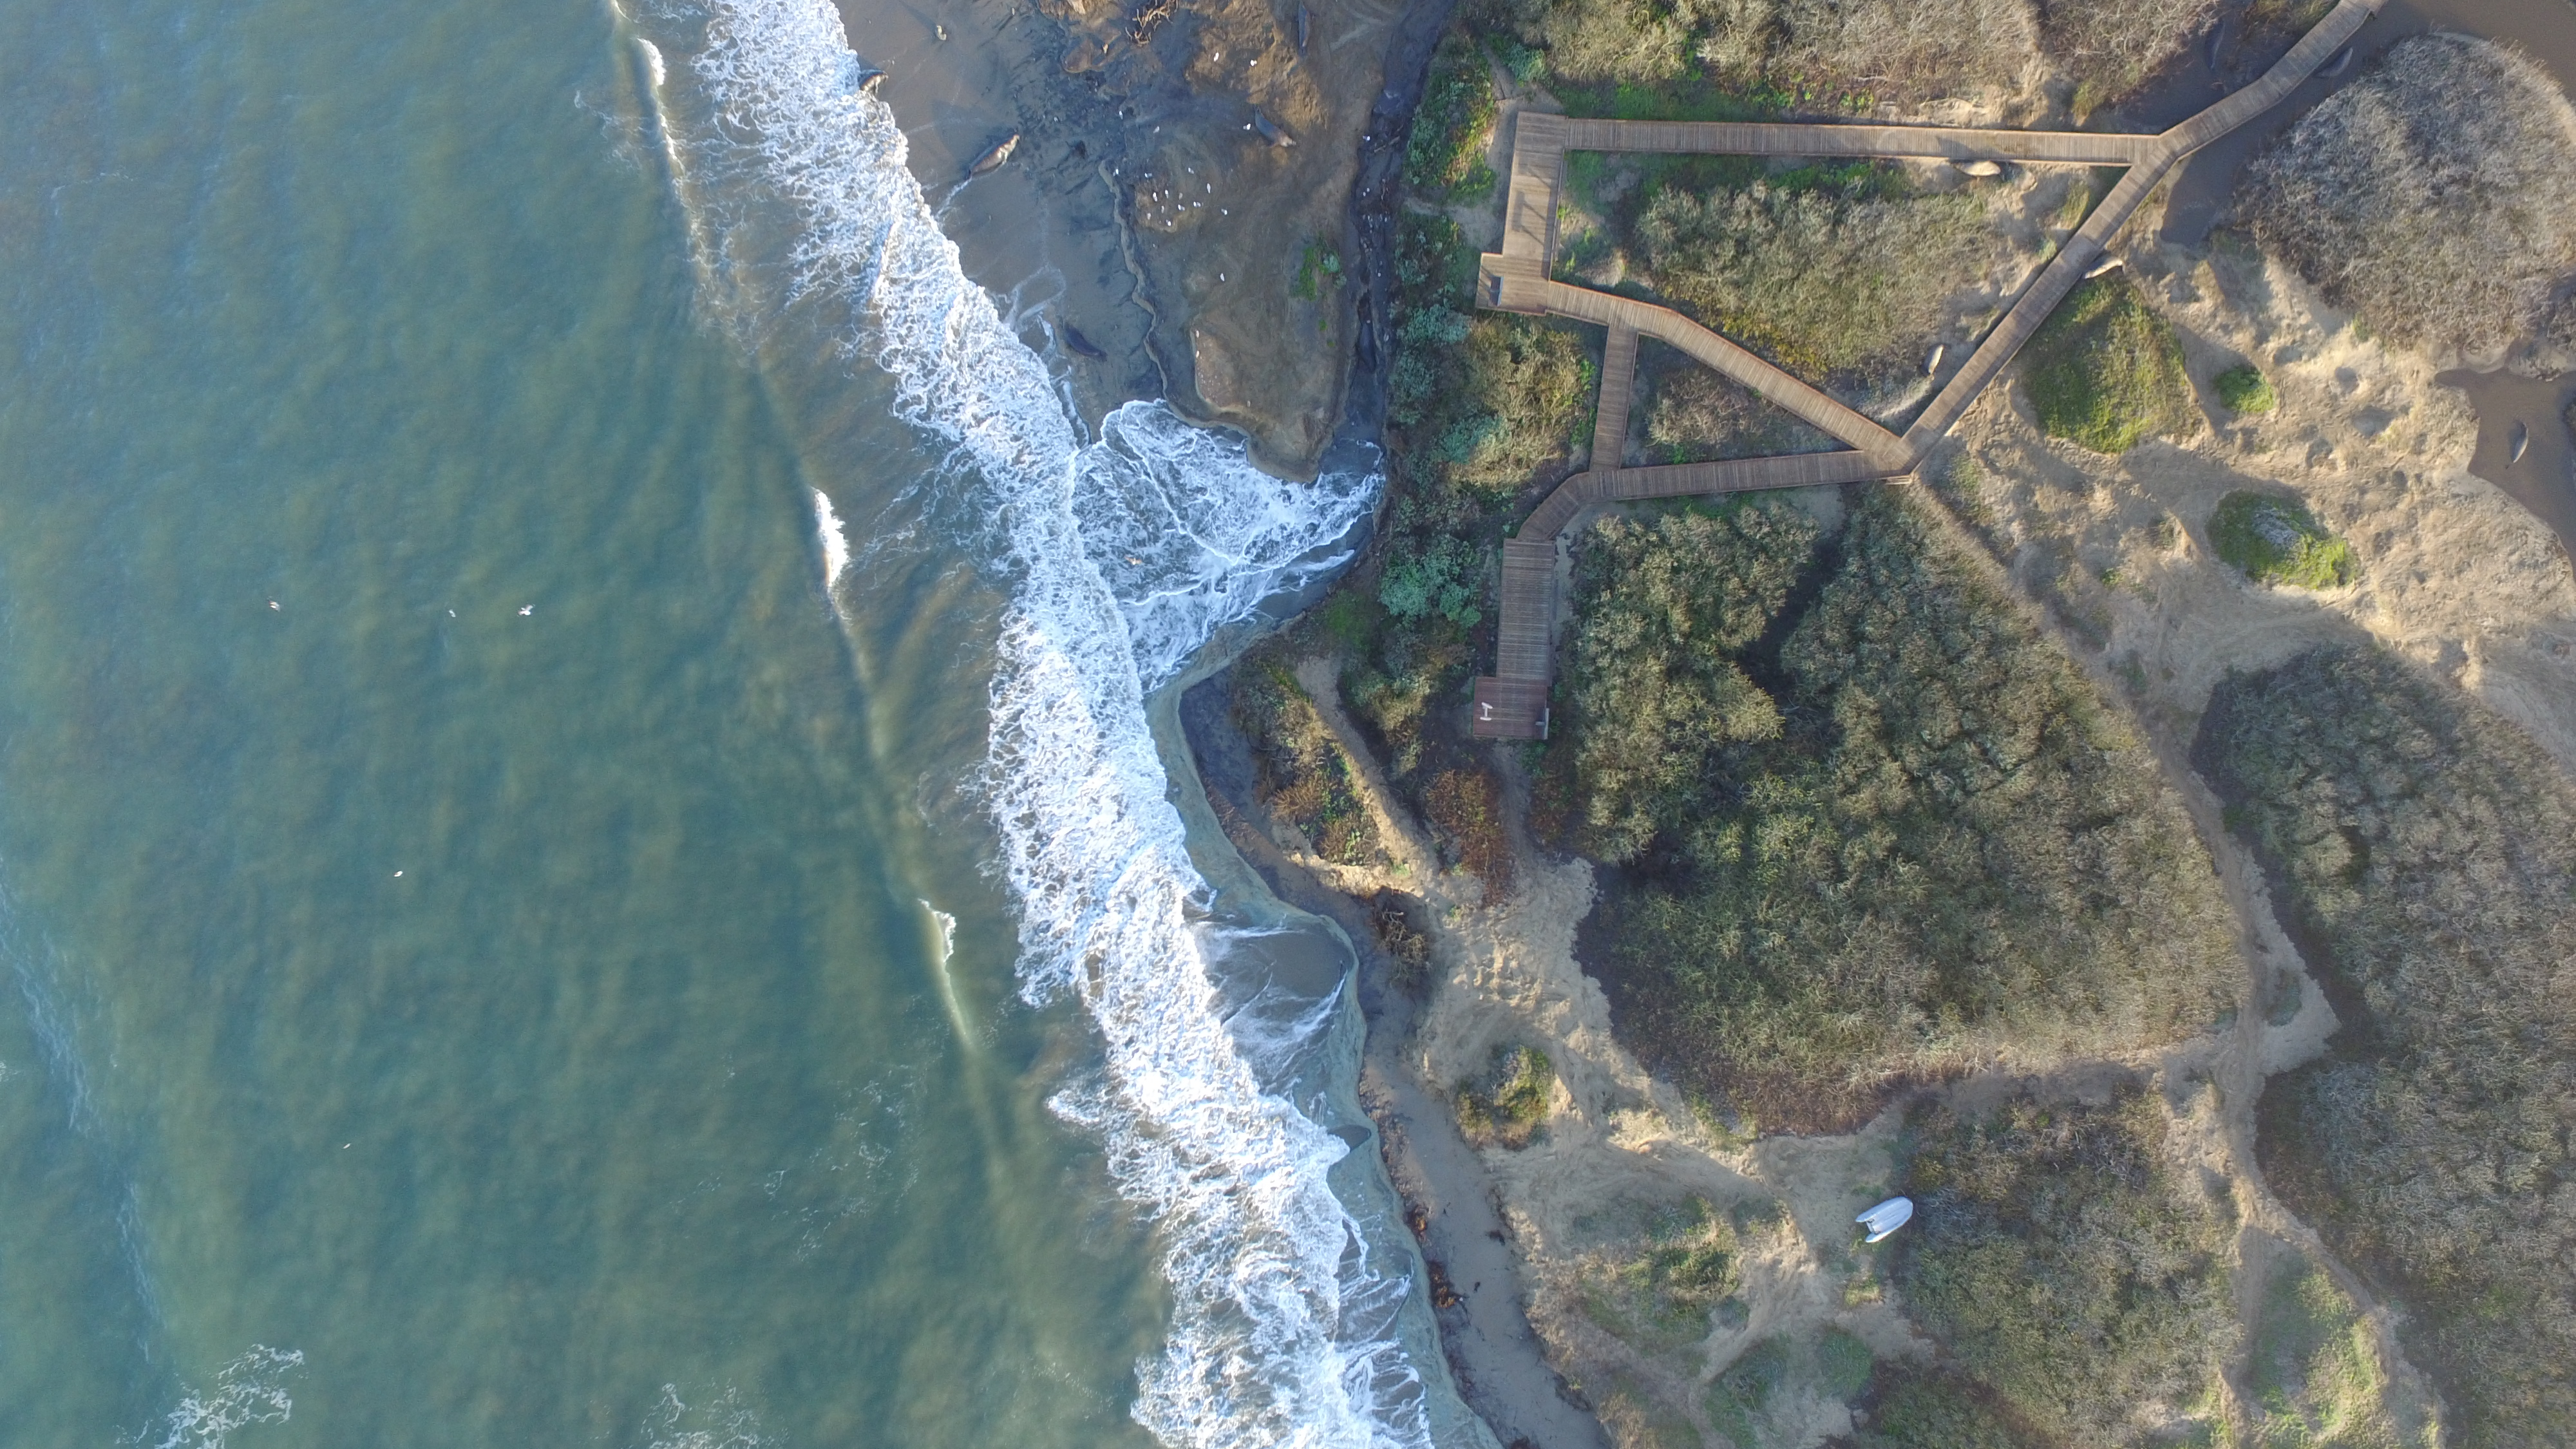adult male: (966, 133, 1021, 180), (1058, 318, 1109, 366), (1253, 106, 1299, 149), (1359, 317, 1378, 375), (856, 69, 890, 99), (1297, 0, 1311, 60)
male juvenile / female juvenile / adulf female: (2312, 46, 2353, 80), (2081, 253, 2127, 280), (1916, 343, 1944, 380), (2204, 16, 2222, 73), (1951, 161, 2003, 179), (2511, 423, 2530, 467)
